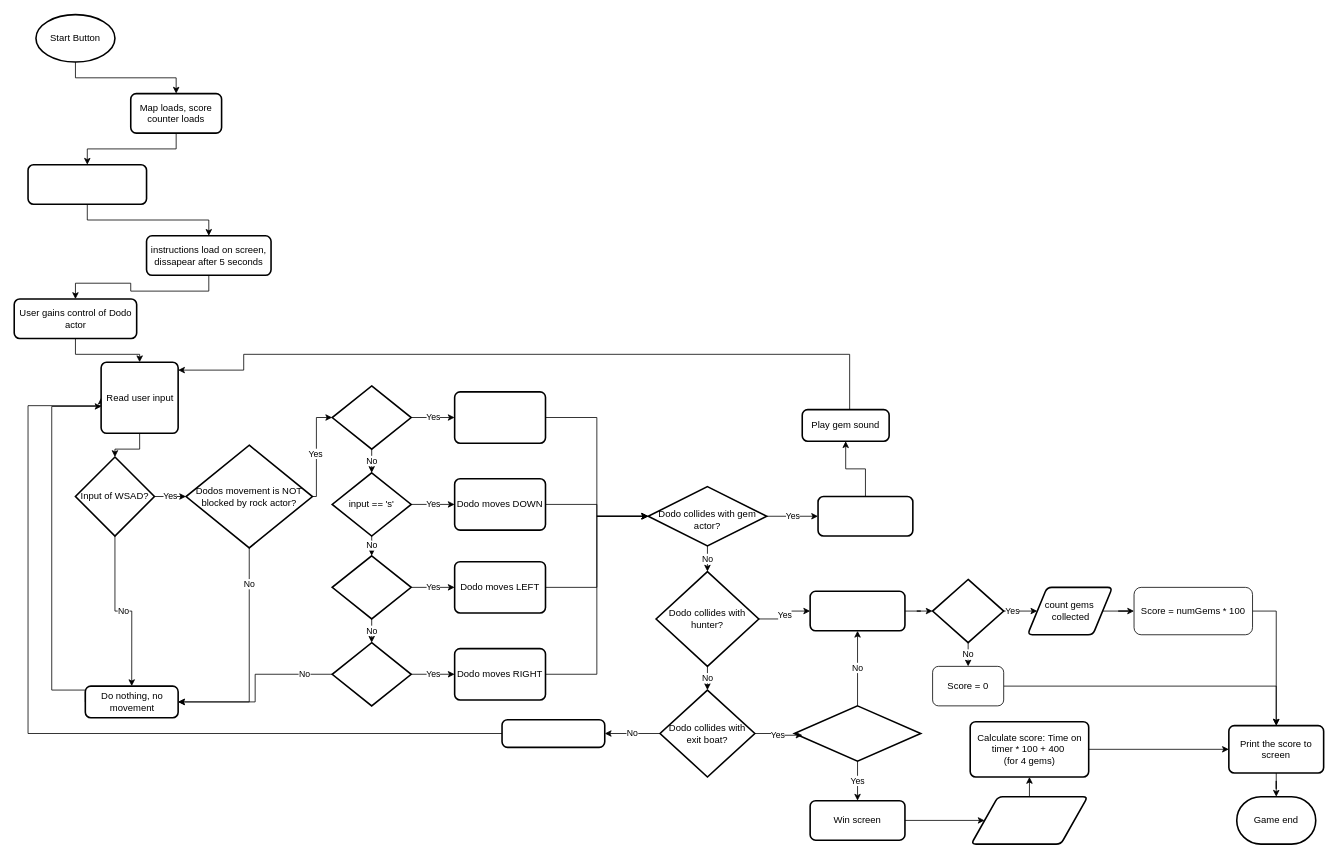
This 1338x858 diagram has some shape labels left out. Each missing label, with the centre of its shape:
"All actors load at starting points on grid" belongs at pixel 87 184.
"Dodo moves UP" belongs at pixel 499 417.
"Gem count +1, gem actor dissapears" belongs at pixel 865 515.
"Gems == 4?" belongs at pixel 857 733.
"Gems > 0" belongs at pixel 967 610.
"input == 'a'" belongs at pixel 371 587.
"input == 'd'" belongs at pixel 371 673.
"input == 'w'" belongs at pixel 371 417.
"Lose screen" belongs at pixel 857 610.
"No gem count increase" belongs at pixel 553 733.
"Read the stopwatch (timer)" belongs at pixel 1029 820.
